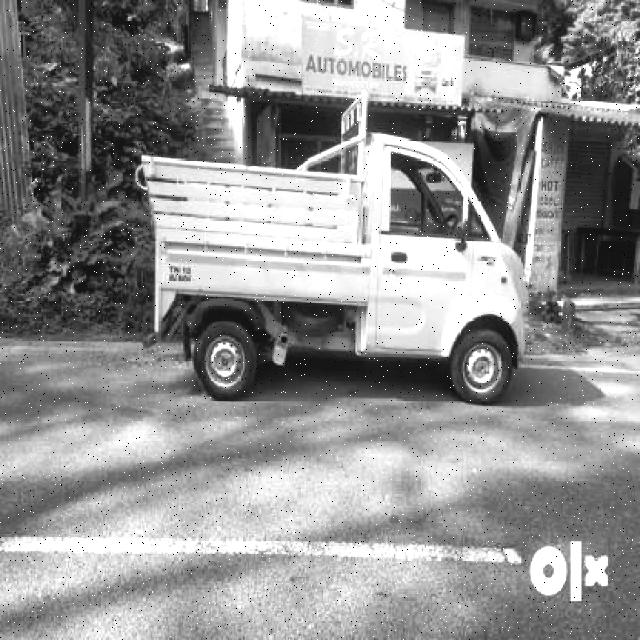LCV: (149, 74, 514, 400)
